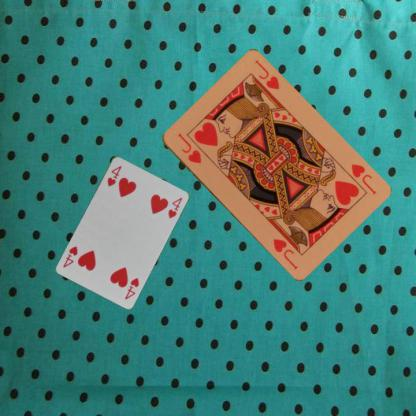4h: (104, 163, 122, 188), (122, 275, 140, 300)
Jh: (348, 160, 378, 196), (175, 130, 202, 165)
